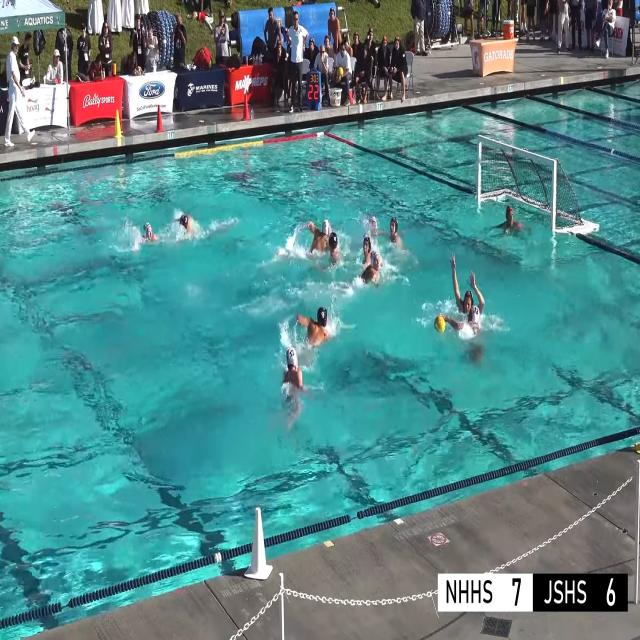ball: (434, 316, 446, 333), (337, 67, 343, 76)
